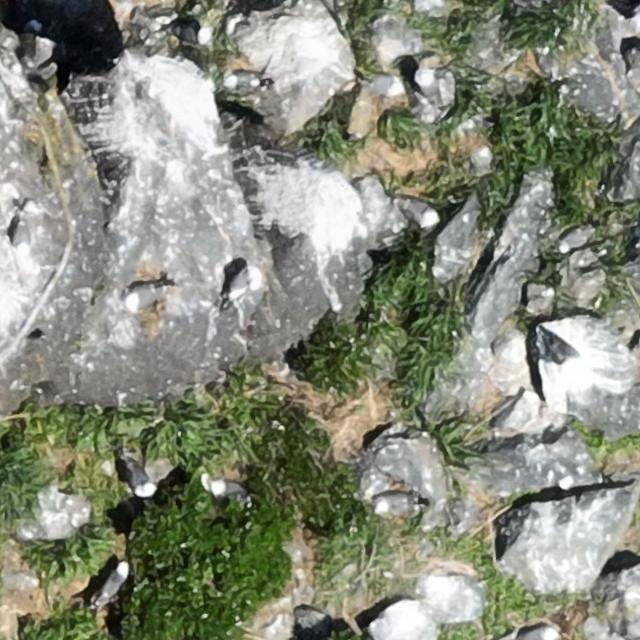umineko: (540, 334, 578, 374), (225, 266, 262, 307), (12, 199, 38, 249), (360, 72, 407, 99), (100, 563, 128, 602), (415, 67, 443, 106), (400, 199, 440, 226), (124, 460, 152, 496), (173, 21, 213, 45), (223, 73, 270, 91), (126, 286, 159, 310), (376, 496, 414, 515), (560, 227, 590, 250), (212, 479, 248, 497), (520, 625, 560, 639)
